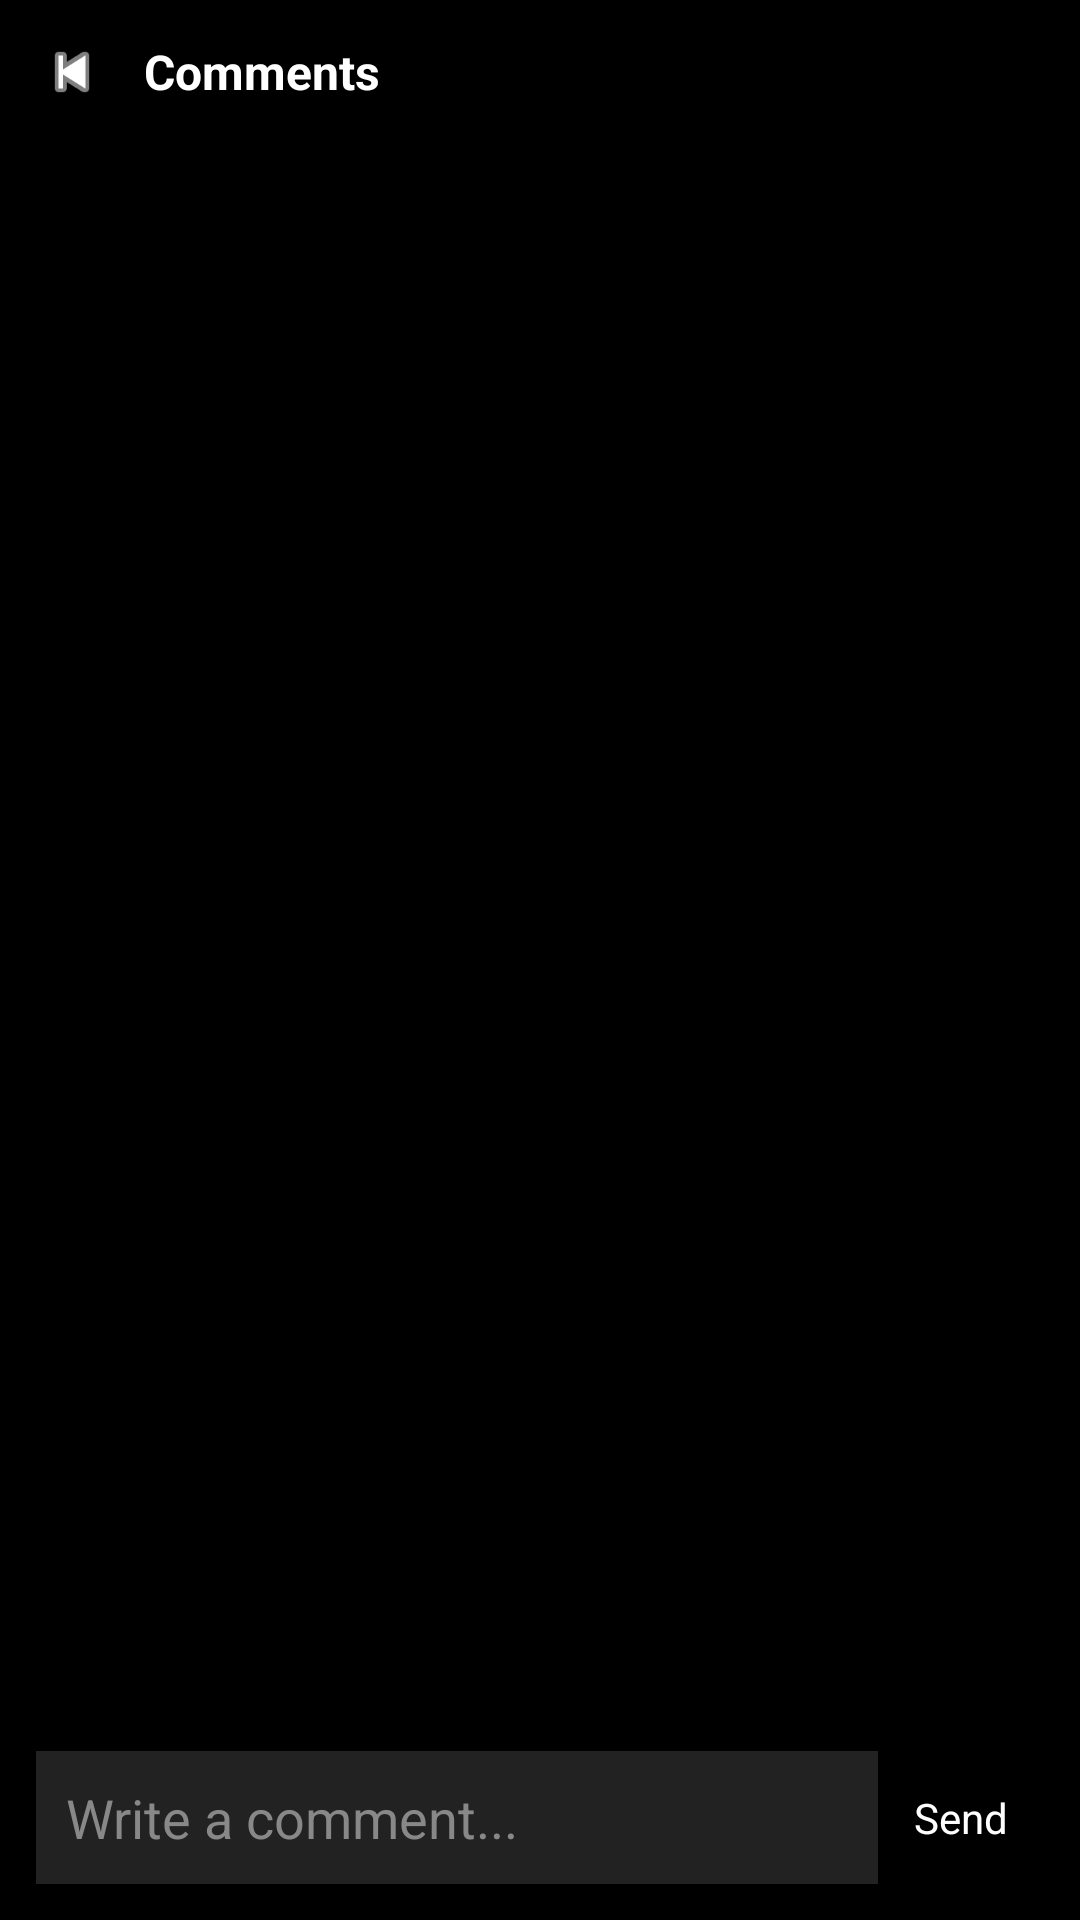

Icon bounding boxes for this 1080px×1920px phone screenshot, format (x1, y1, x2, y2):
previous: (55, 52, 89, 92)
